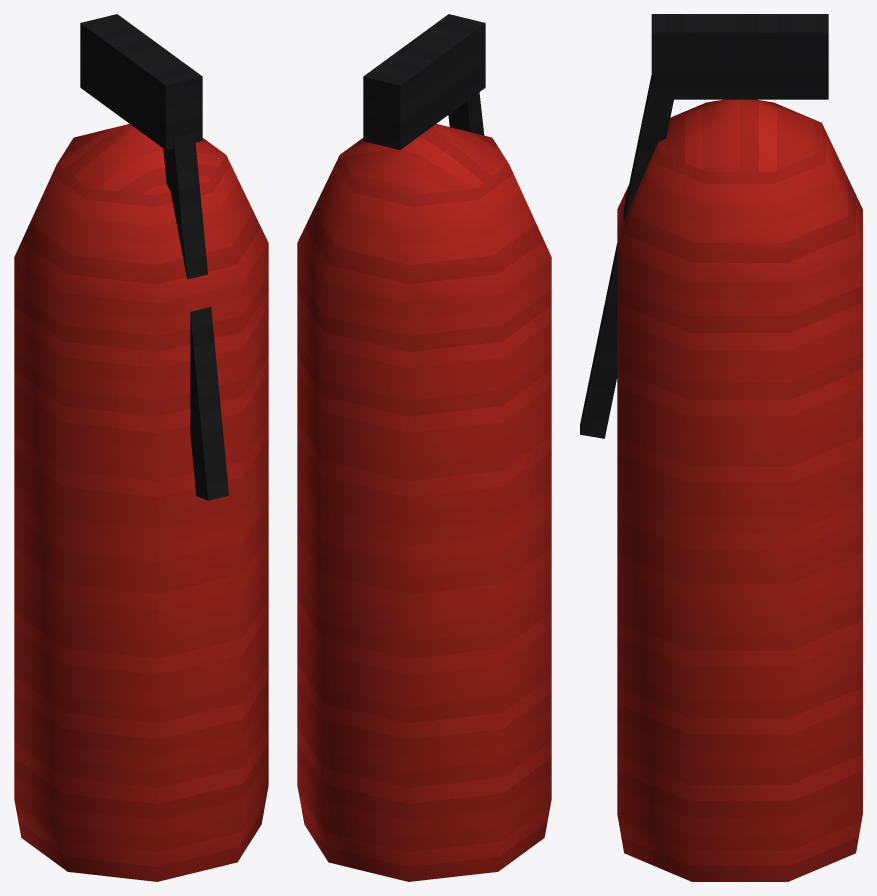
The model's file is extintor.glb.
3 renders of one model, left to right at view 1: azimuth 30°, elevation 25°; view 2: azimuth 150°, elevation 25°; view 3: azimuth 270°, elevation 25°, orthographic. The views are drawn at different scales.
Visible parts, largest first — view 1: Inteiro; view 2: Inteiro; view 3: Inteiro.
Boxes of the visible parts, left/top/right/bottom form: Inteiro: left=14, top=14, right=268, bottom=881; Inteiro: left=297, top=14, right=551, bottom=881; Inteiro: left=580, top=14, right=862, bottom=881.
Size of the model in its own units: 0.1663 by 0.605 by 0.1915.
Materials: 1 (1 with a texture image).
